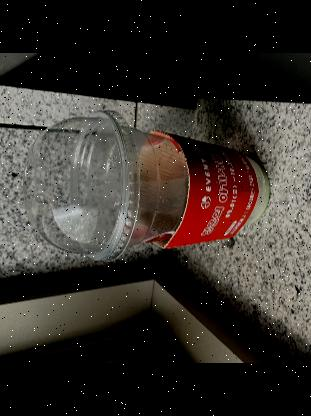Others: (23, 105, 268, 264), (22, 110, 137, 263)
